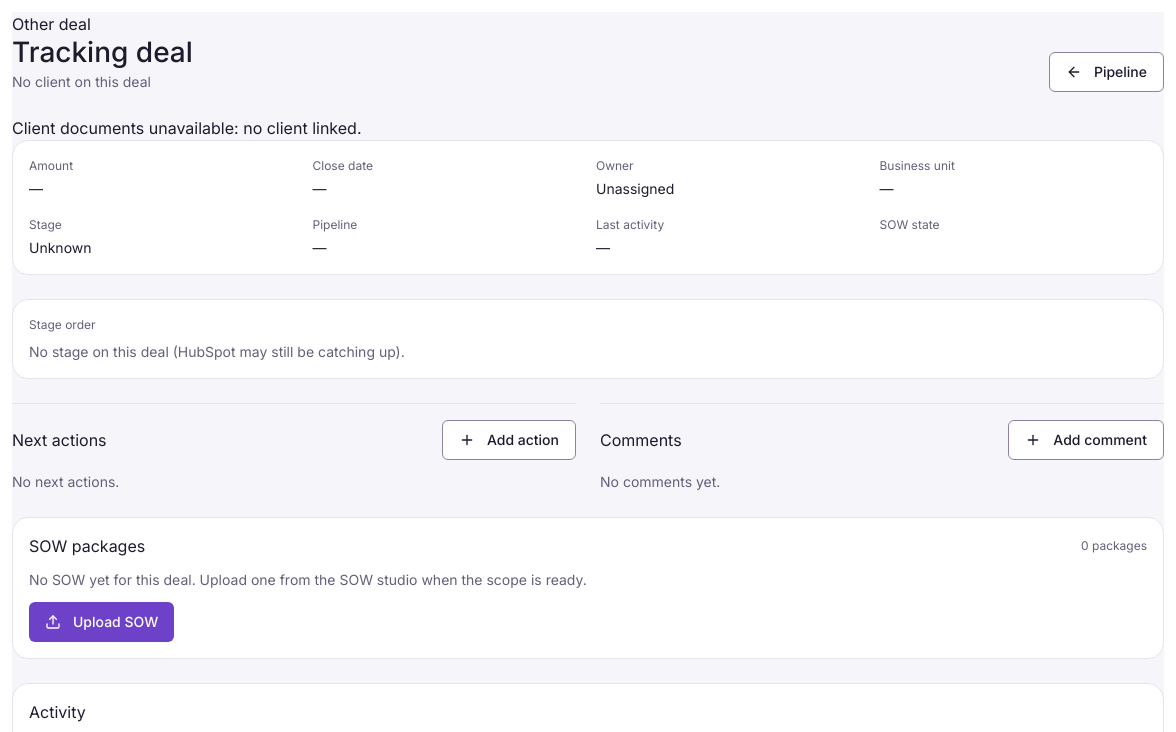
Scenario: a mutation that finishes after navigation cannot start an old-deal refresh
Click the button "Add comment" at (1086, 440), box [1008,420,1164,460]
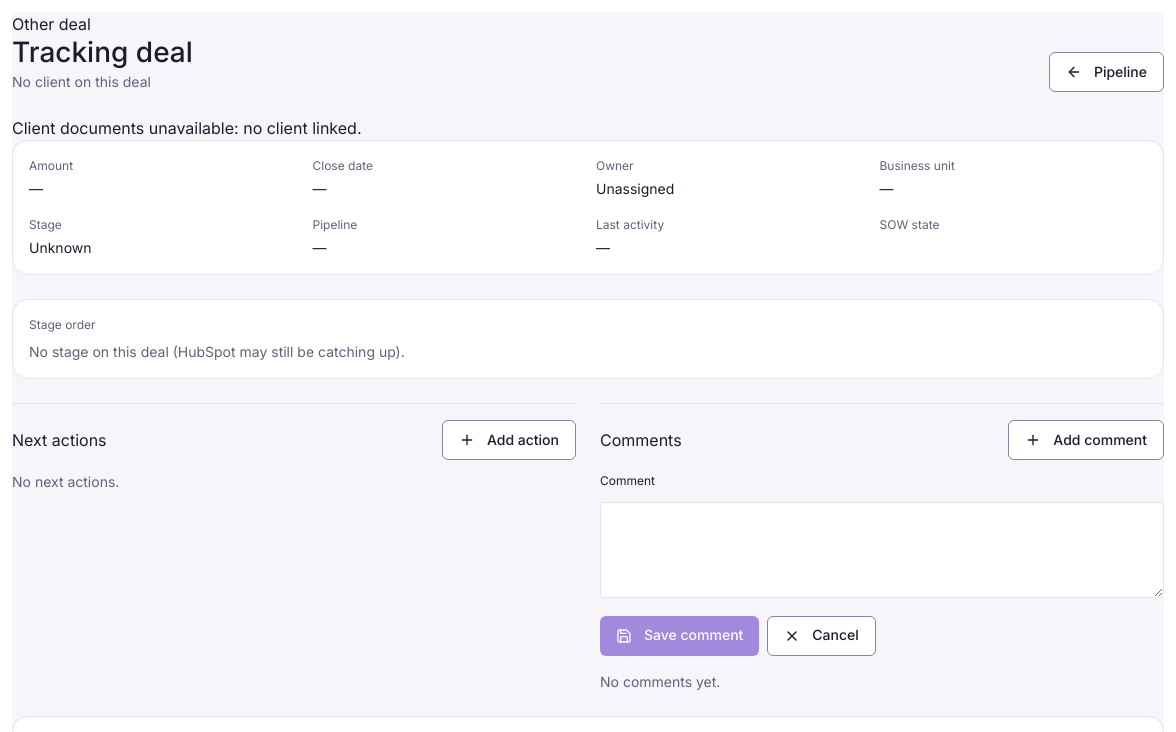
Type "Late mutation" into the text box labelled "Comment" at (882, 550), box [600,502,1164,598]
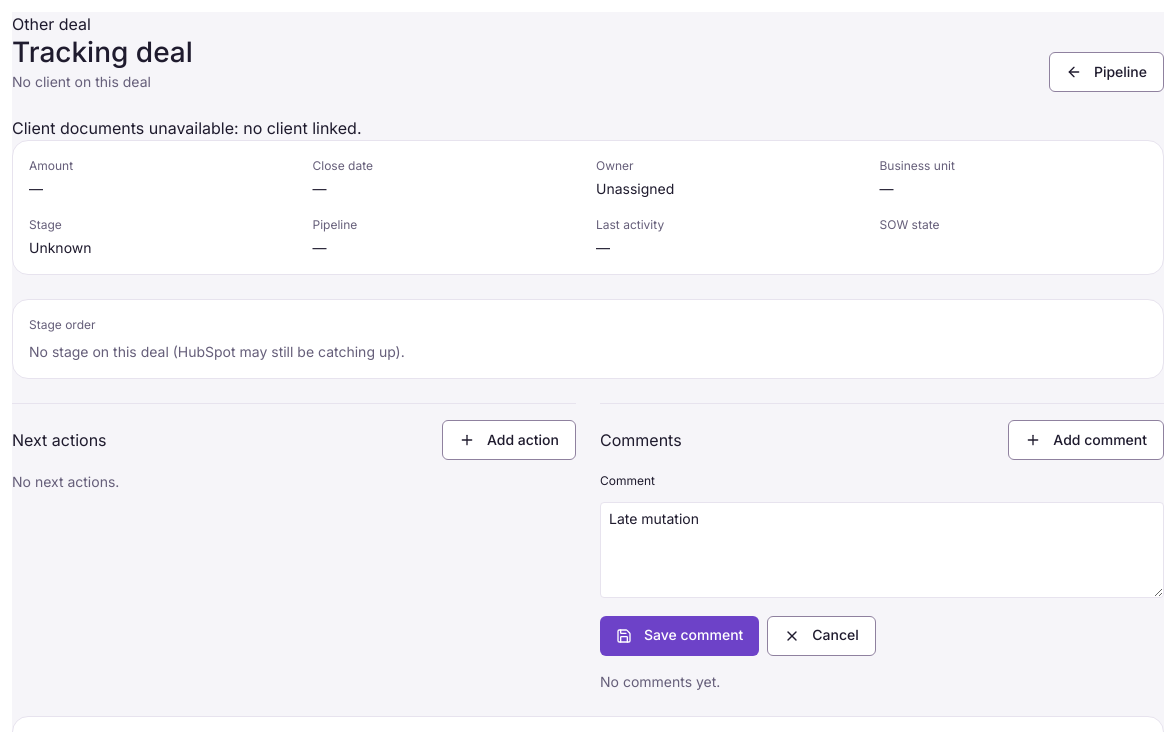
Click the button "Save comment" at (680, 636), box [600,616,759,656]
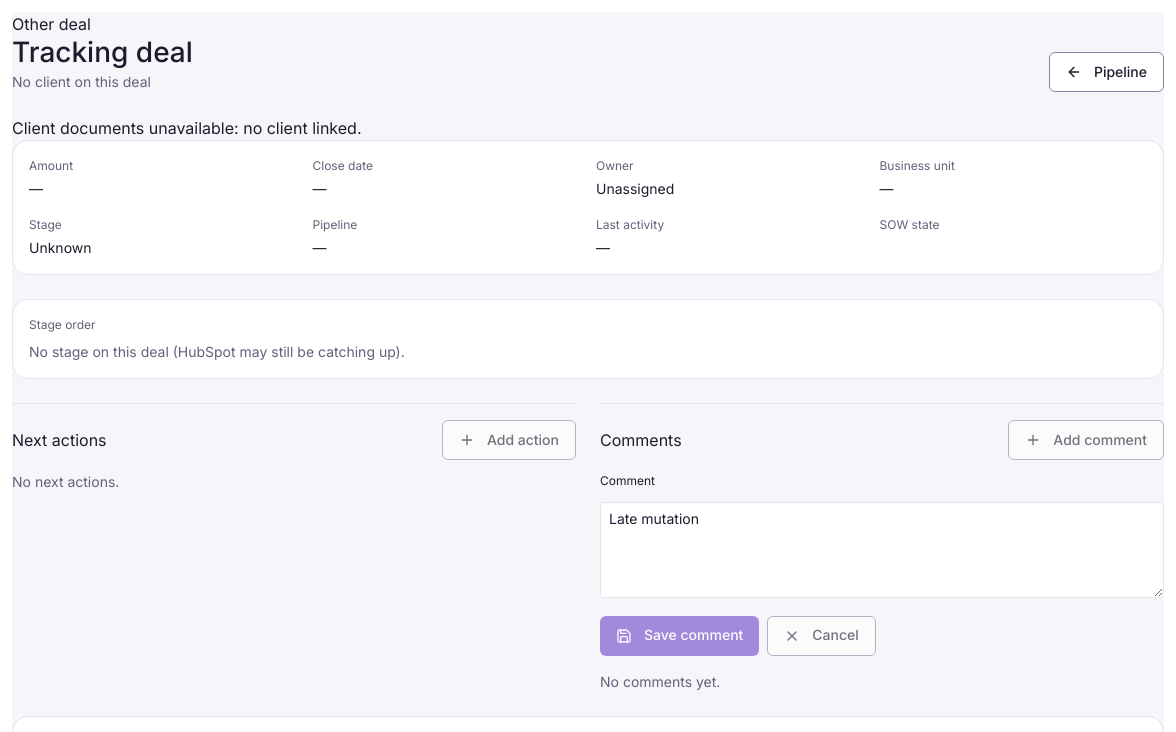
Click the link "Other deal" at (51, 24), box [12,14,91,34]
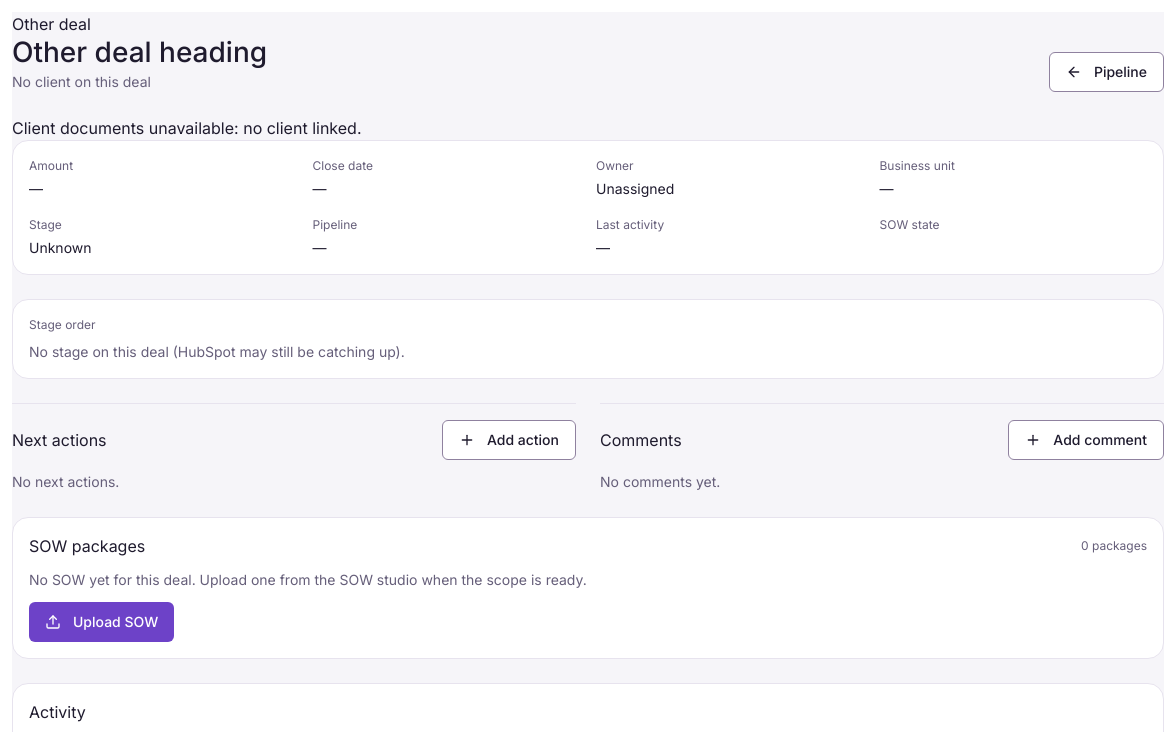
Expected: the heading "Other deal heading" is shown, [12,36,267,68]
